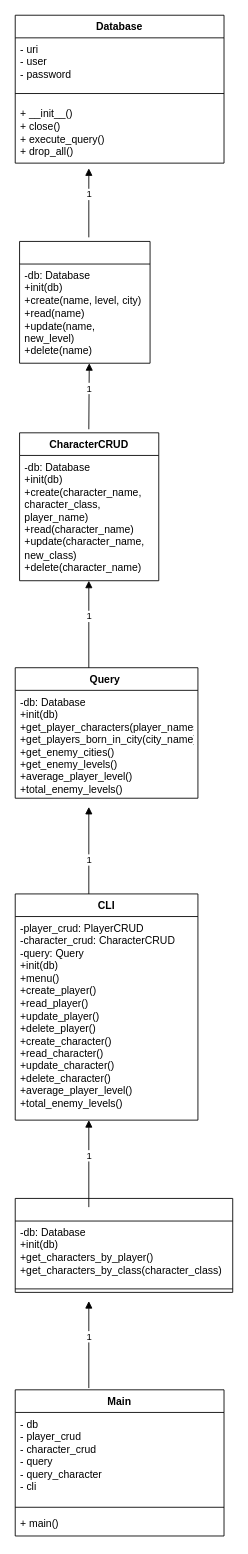
Image size: 248x1554. Some labels were removed from this diagram. The box of each missing label's shape, as (x1, y1, x2, y2) in pixels:
CharacterQuery: (14, 1198, 233, 1292)
PlayerCRUD: (19, 241, 150, 363)
